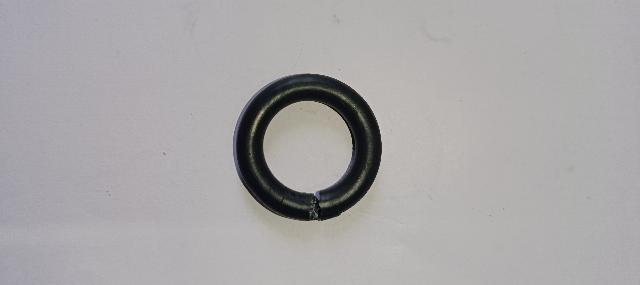crack: (307, 188, 328, 225)
scratch: (273, 182, 295, 217)
